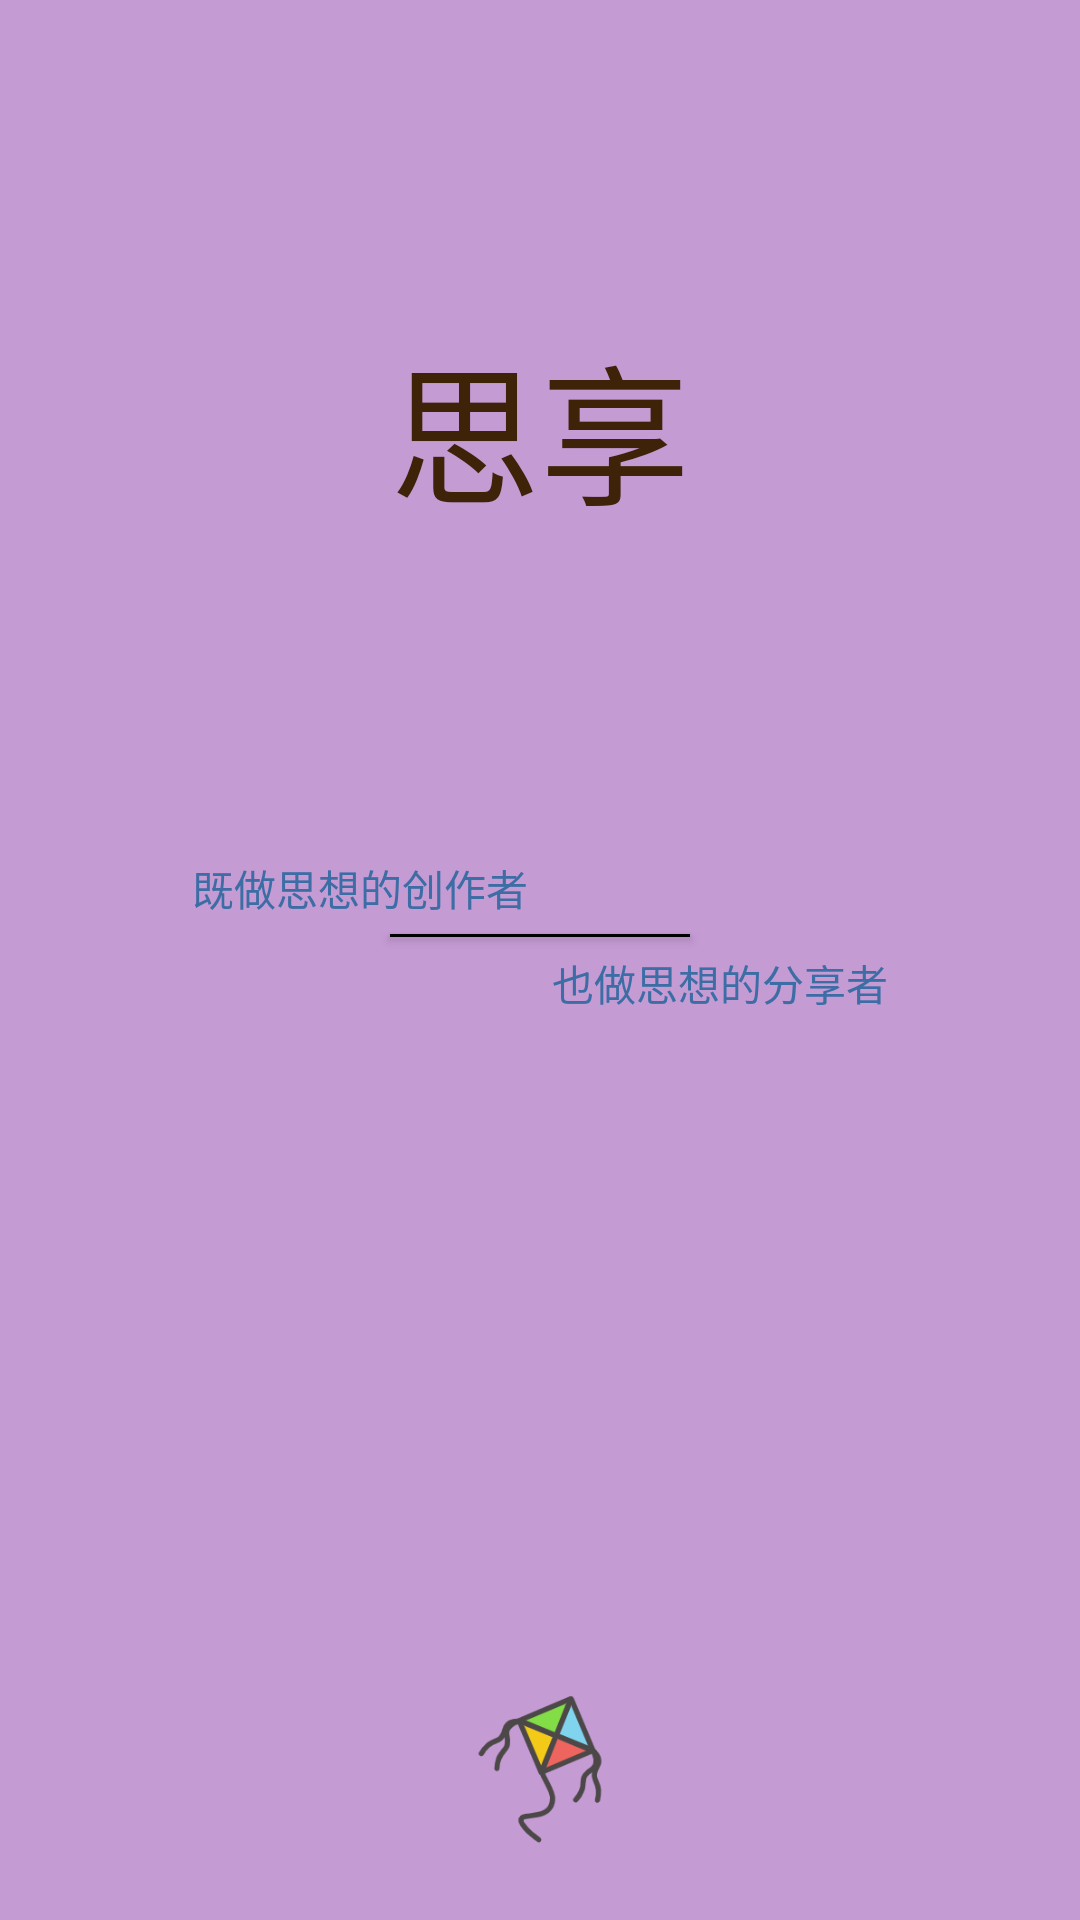

Where to tap for icons on this 1080×1920 app screen, as (x=x, y=y):
kite: (x=540, y=1769)
